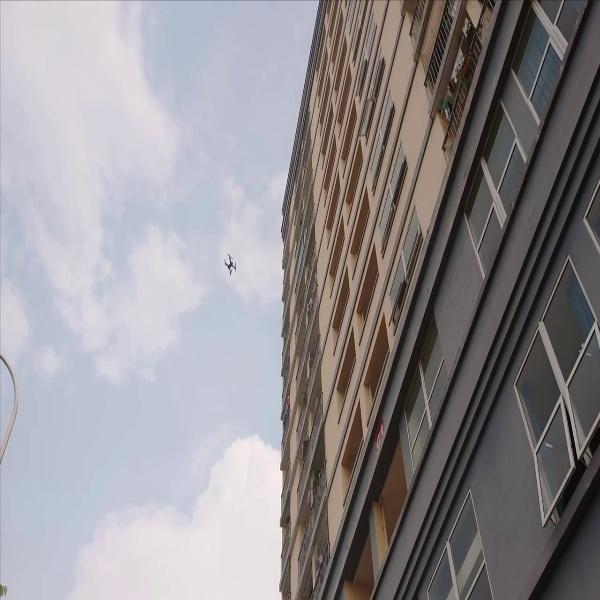drone: (219, 246, 242, 280)
